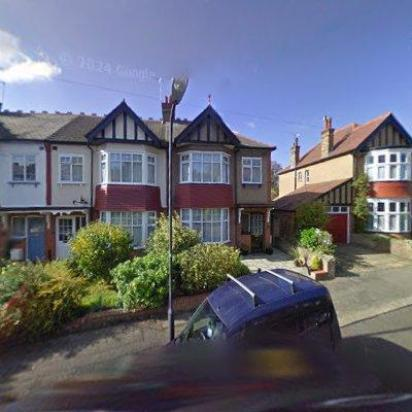moving-car: (0, 322, 410, 412)
stationary-light-truck-onstreet: (160, 266, 344, 362)
